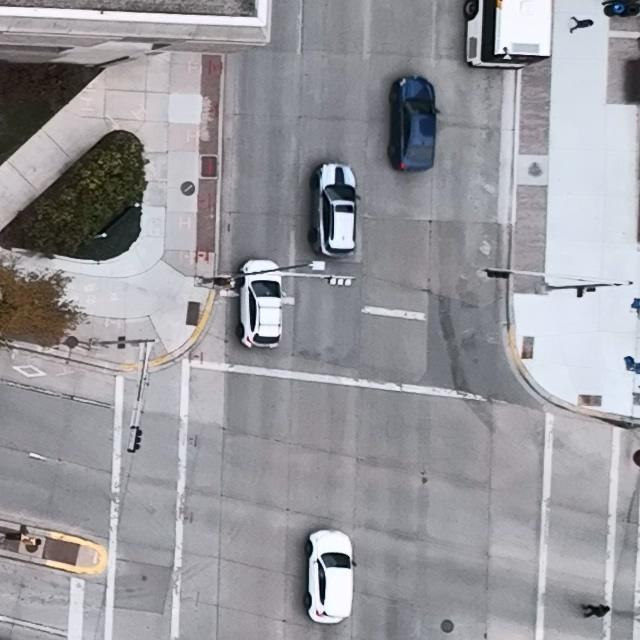car: (463, 0, 554, 70), (304, 528, 357, 625), (388, 76, 441, 172), (308, 162, 361, 257), (237, 259, 286, 350)
